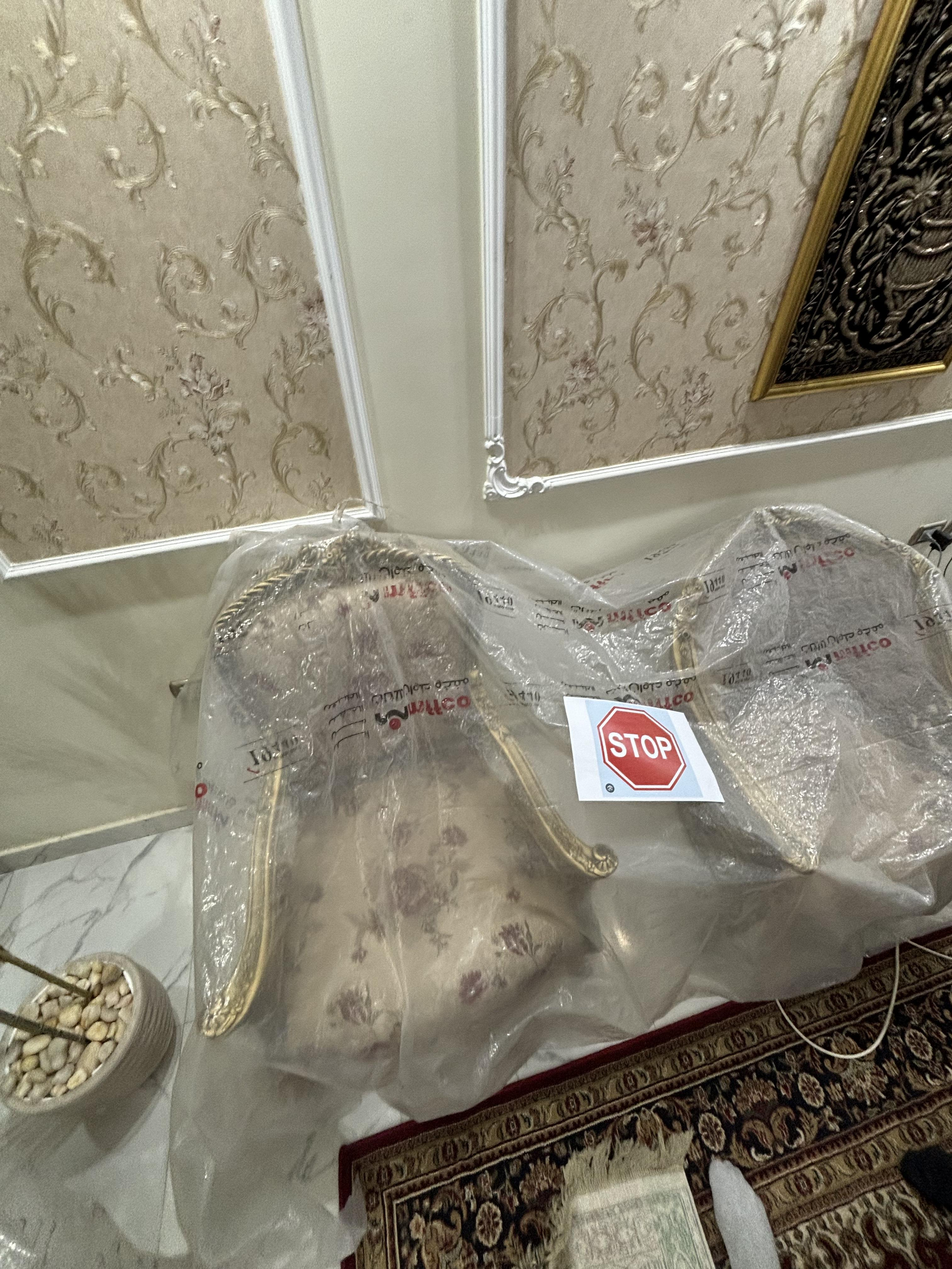Stop: (596, 709, 690, 800)
